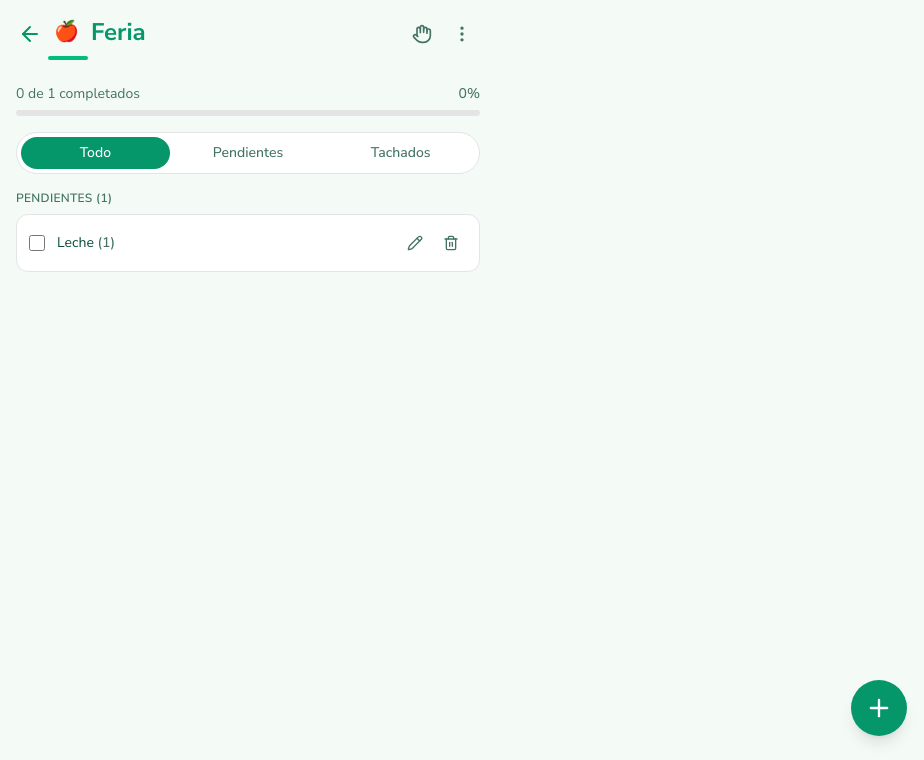
Test case: ListDetailPage (smoke) › filtro sin resultados muestra el empty state correspondiente
The image size is (924, 760).
Expected: the heading "Feria" is shown, left=91, top=16, right=146, bottom=48
Click the button "Tachados" at [401, 153], box left=326, top=137, right=475, bottom=169
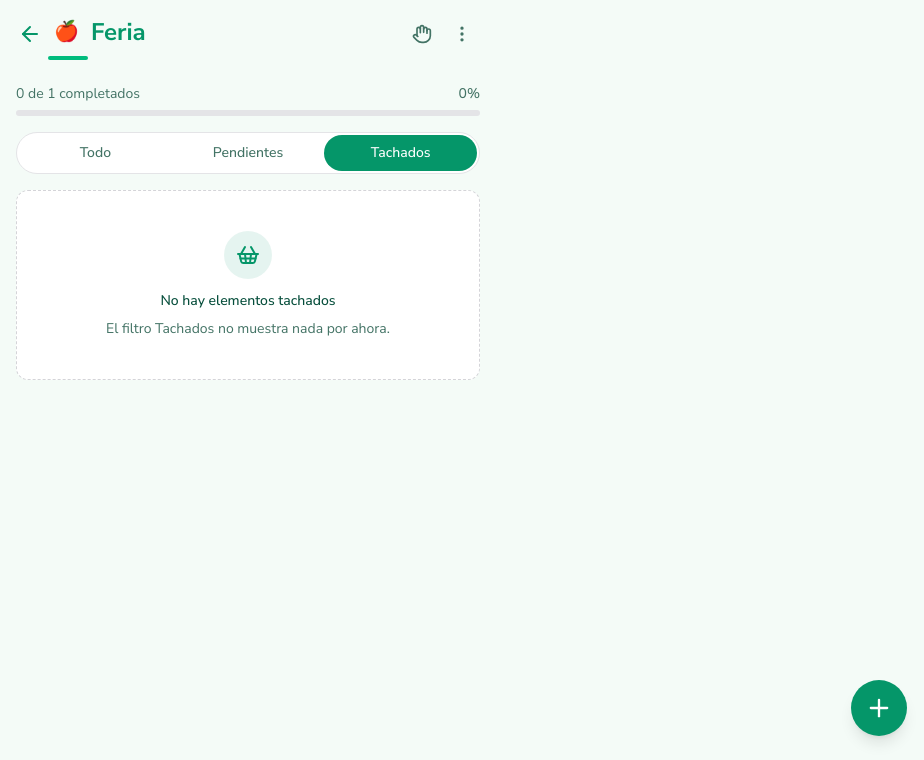
Expected: the text "No hay elementos tachados" is shown, left=160, top=291, right=336, bottom=311
